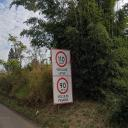speed_limit_110: (55, 52, 68, 67)
